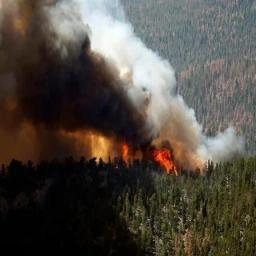Heavy smoke: (1, 1, 195, 141)
Medium fire: (7, 117, 194, 173)
